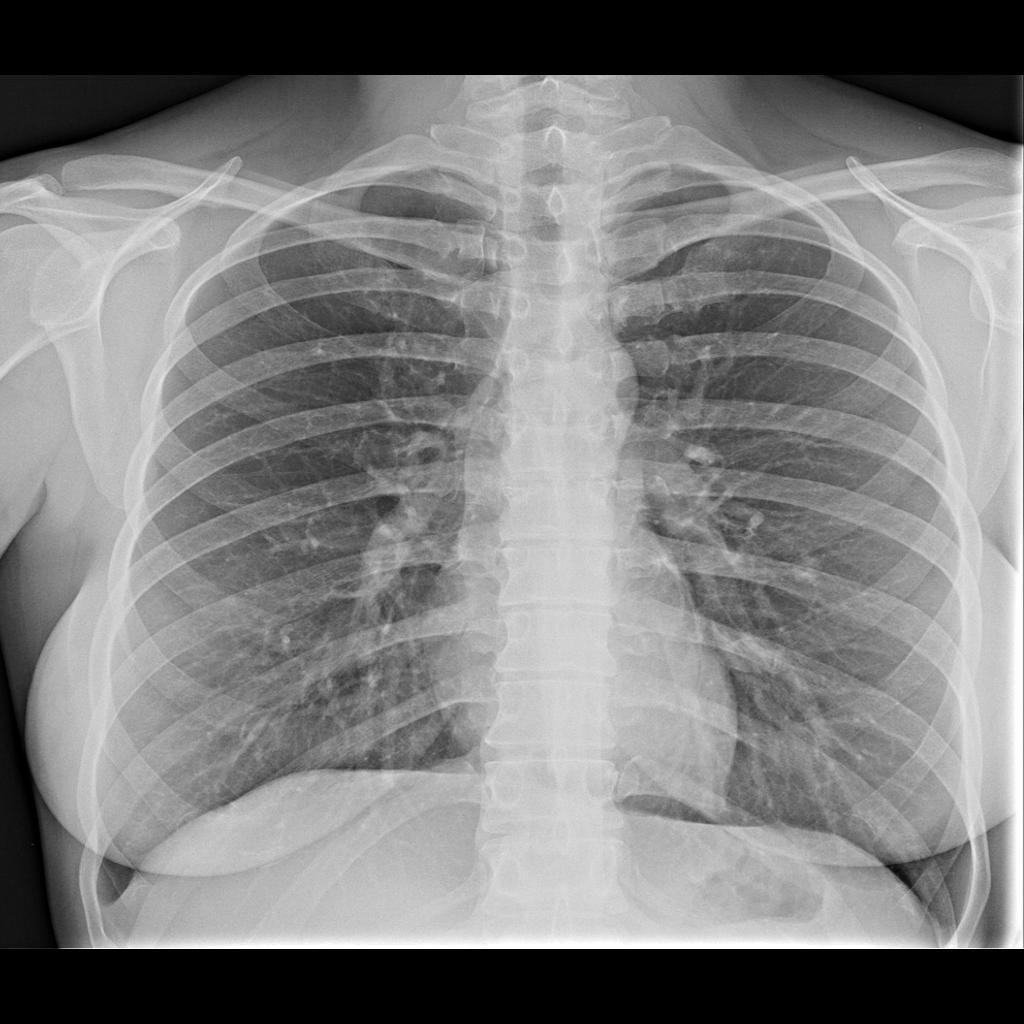Nodule: (762, 710, 826, 777)
